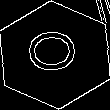O_E: (25, 32, 85, 78)
